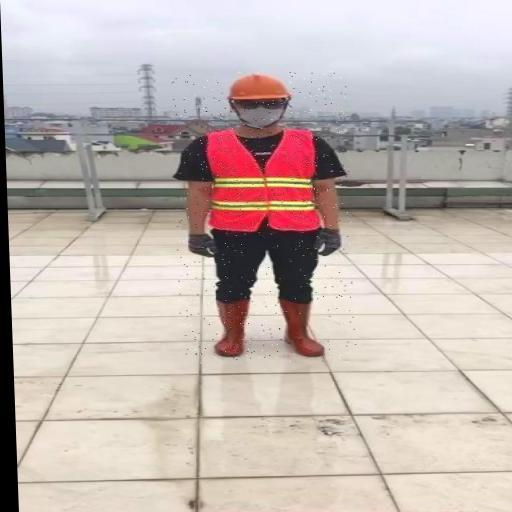safety_boots: (203, 296, 258, 368), (278, 297, 334, 364)
